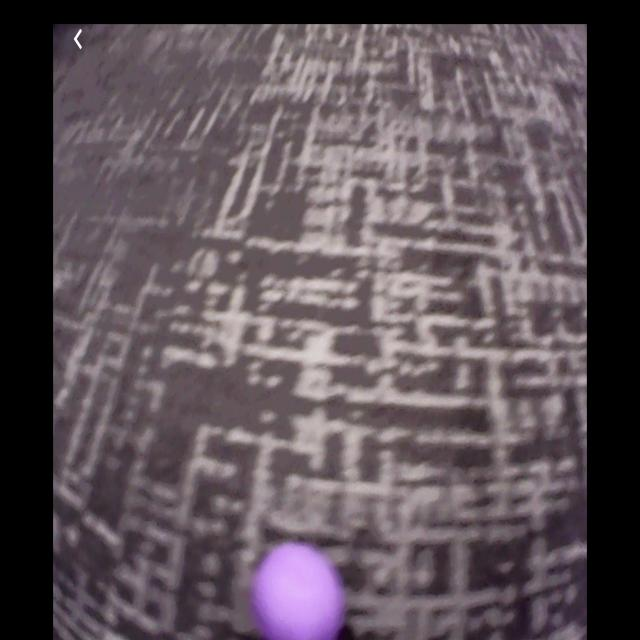ball: (252, 542, 345, 640)
